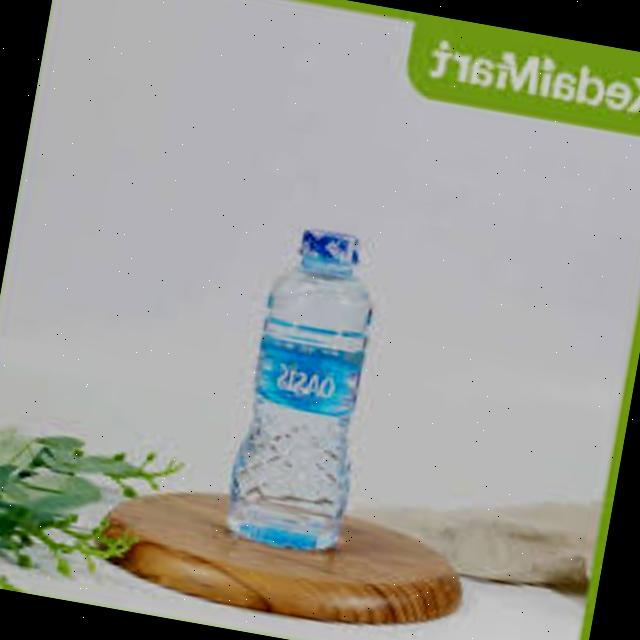trash: (213, 216, 398, 564)
